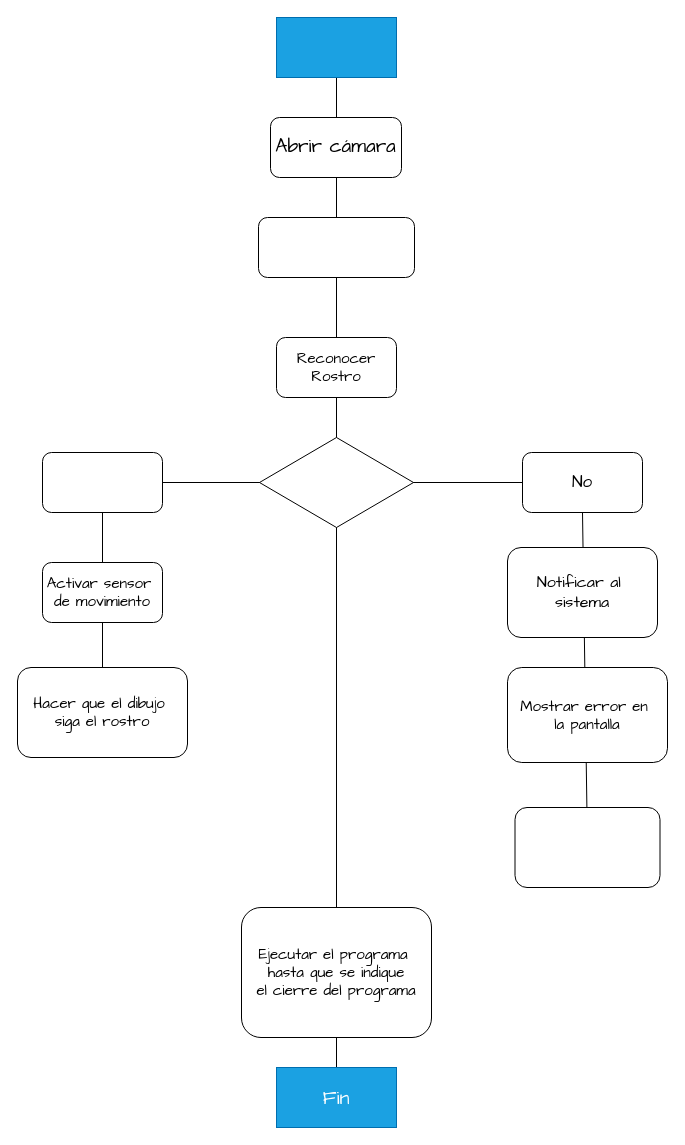
The diagram is 685 pixels wide and 1145 high, and some of its shapes have lost their labels. Here are the shapes that lost their labels. From the top down, the centre of each, then its label:
At pixel 336 47: "Inicio".
At pixel 336 247: "Mostrar dibujo".
At pixel 102 482: "Sí".
At pixel 336 482: "Hay un rostro en la cámara?".
At pixel 587 847: "Dar opción de reintentar".
